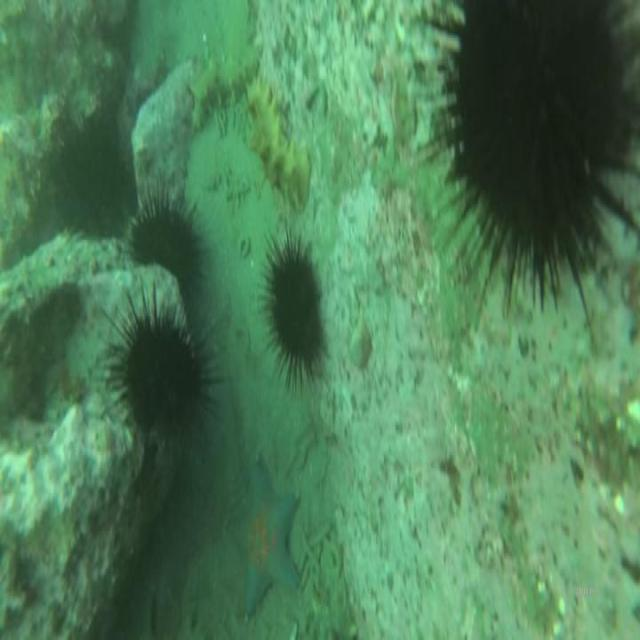echinus: (448, 5, 636, 289), (123, 310, 209, 438), (60, 126, 130, 238), (268, 251, 322, 376), (136, 207, 203, 281)
holothurian: (248, 81, 311, 207), (187, 52, 260, 130)
starfish: (234, 457, 302, 618)
